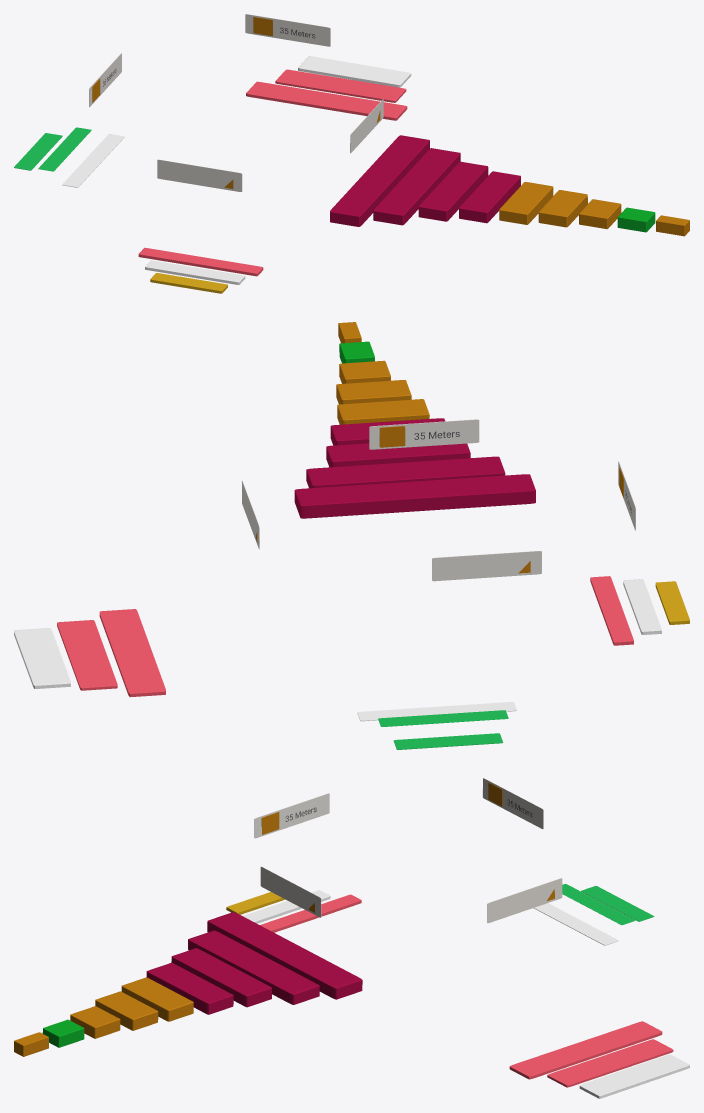
File: jump_domi15.gltf
3 views of the same model, one above another, from view 1: azimuth 30°, elevation 25°; view 2: azimuth 150°, elevation 25°; view 3: azimuth 270°, elevation 25° (orthographic). The views are drawn at different scales.
Parts seen in each view (by area): view 1: Cube right (×13), Cube top (×2), Cube bottom (×3), Cube left (×3), Cube top center; view 2: Cube right (×10), Cube top (×2), Cube bottom (×3), Cube left (×3), Cube top center; view 3: Cube right (×13), Cube top (×2), Cube top center, Cube left (×3), Cube bottom (×3).
Part boxes in pixels (box(x1,y1,x2,y2)): Cube right (×13): box(89, 14, 689, 236); Cube top (×2): box(275, 56, 411, 102); Cube bottom (×3): box(138, 247, 263, 293); Cube left (×3): box(14, 127, 124, 187); Cube top center: box(246, 81, 407, 120); Cube right (×10): box(294, 341, 541, 581); Cube top (×2): box(14, 620, 117, 690); Cube bottom (×3): box(590, 576, 689, 645); Cube left (×3): box(357, 702, 516, 749); Cube top center: box(99, 609, 165, 697); Cube right (×13): box(14, 778, 562, 1056); Cube top (×2): box(547, 1039, 689, 1098); Cube top center: box(509, 1021, 662, 1079); Cube left (×3): box(533, 884, 654, 945); Cube bottom (×3): box(226, 890, 361, 932).
Bounding box in the file's own units: 18.37 × 5.08 × 24.57.
